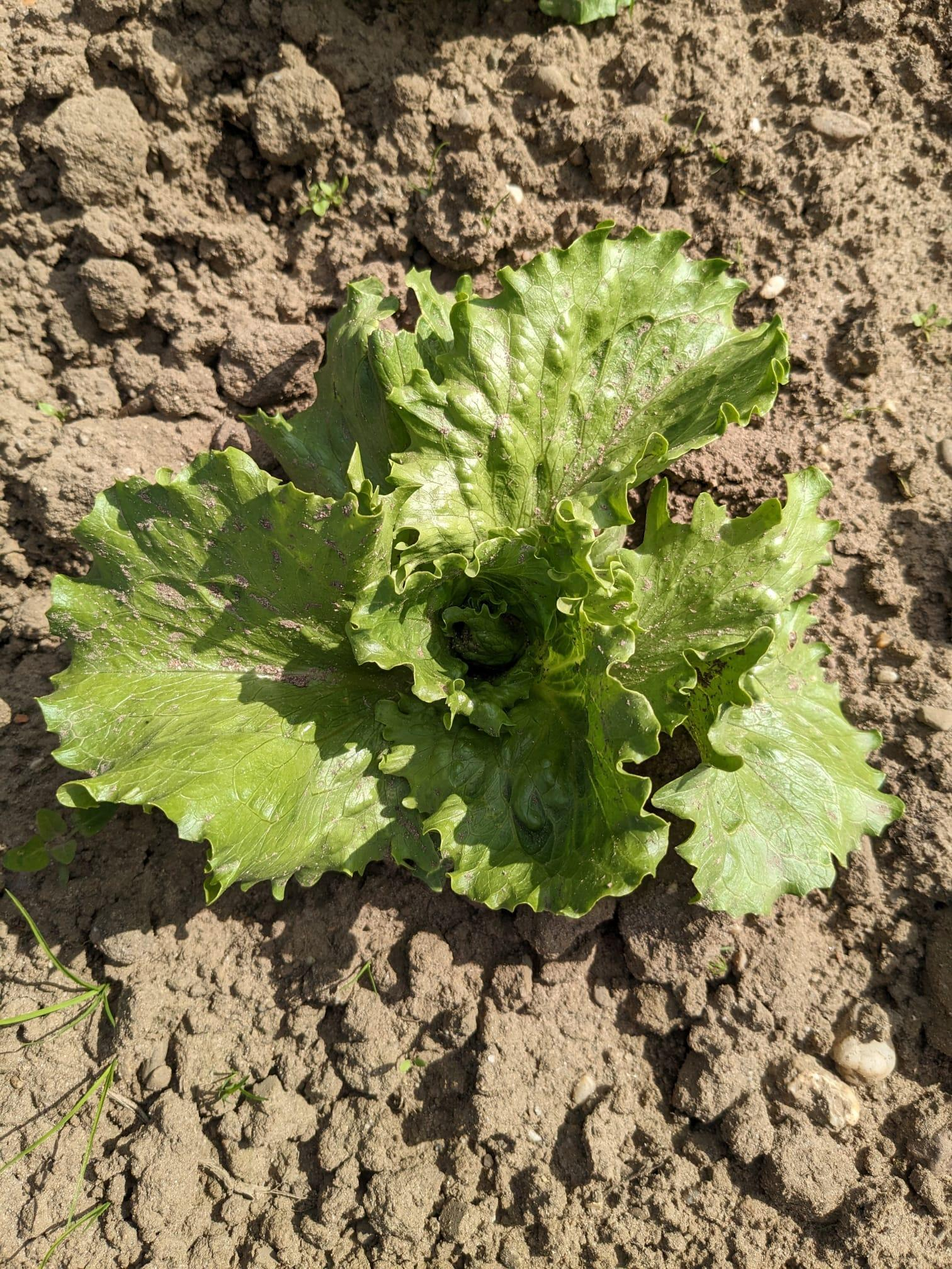healthy: (39, 226, 902, 915)
